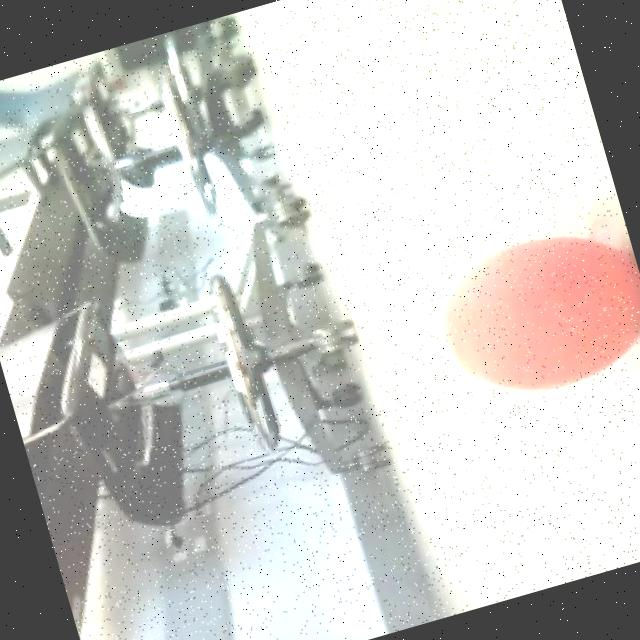ping-pong-ball: (419, 202, 640, 420)
